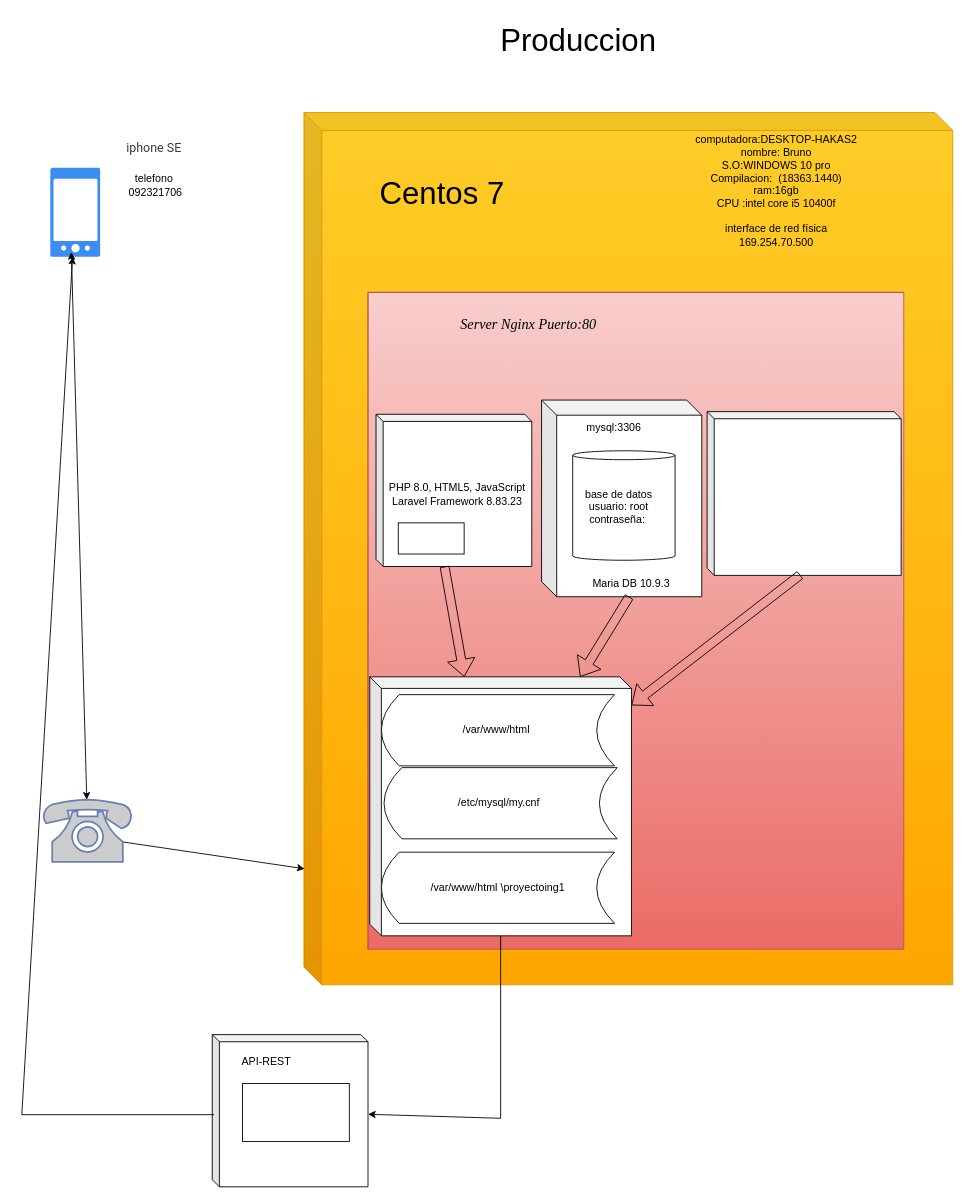
Image size: 968x1202. Some labels were removed from this diagram. Here are the shapes that lost their labels. From the top down, the centre of each, then its label:
At [803,493]: "nginx-1.22.0 :80".
At [430,538]: "/PHP".
At [295,1112]: "Google".
